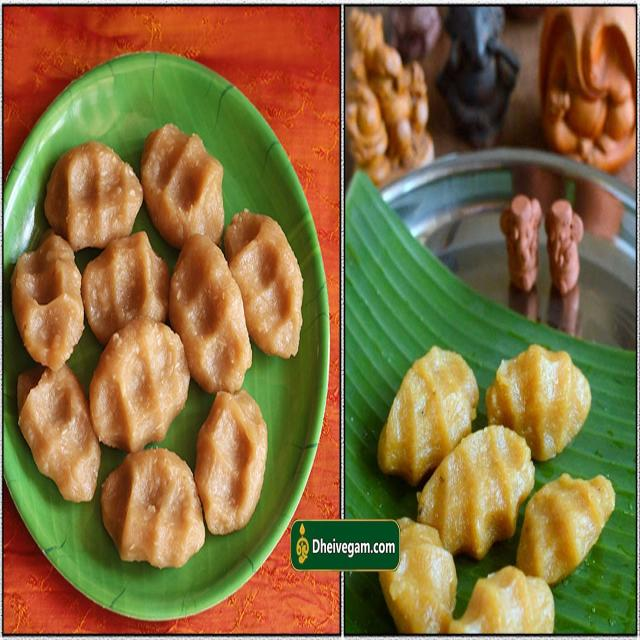pidi kolukattai: (6, 81, 298, 582), (380, 337, 626, 640)
